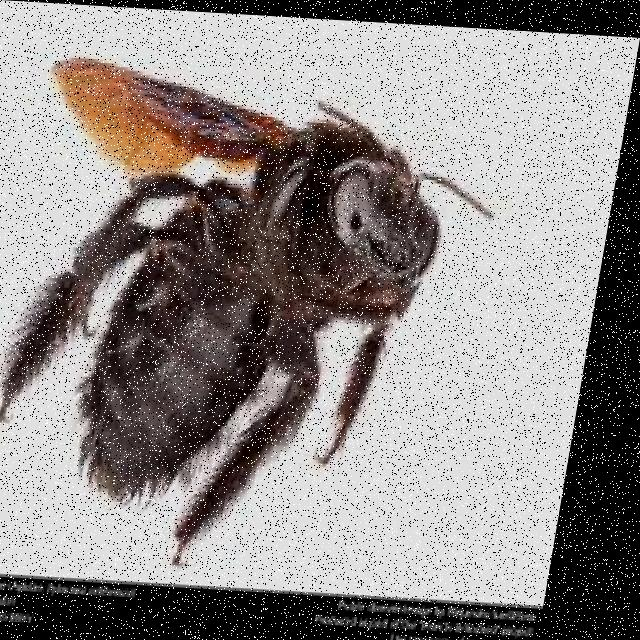Xylocopa: (0, 27, 498, 549)
